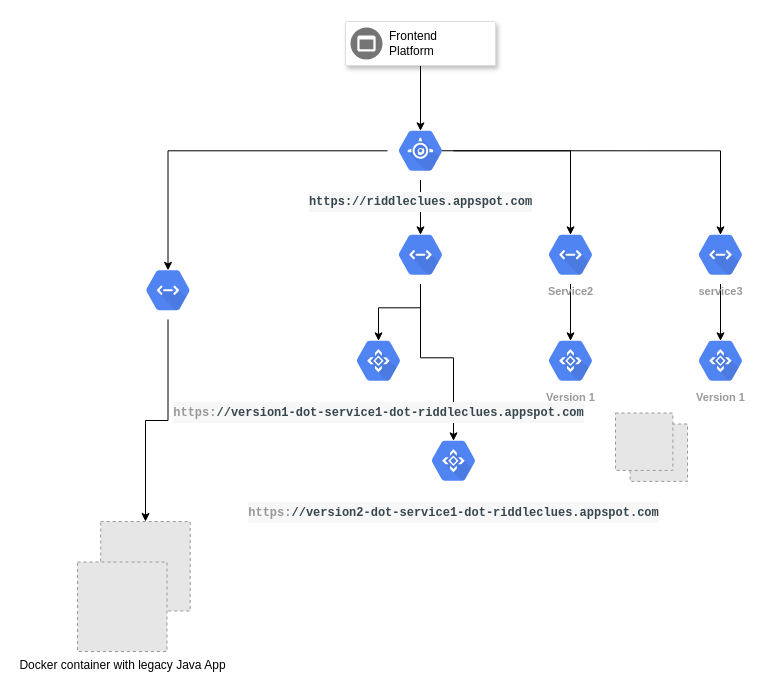
Some shapes in this 771 by 690 pixel diagram are drawn without their labels. Grey dashed boxes stand in for pictures. Here are the shapes that lost their labels. From the top down, the centre of each, then its label:
At point (420, 254): "https://service1-dot-riddleclues.appspot.com".
At point (167, 289): "https://legacy-dot-riddleclues.appspot.com".
